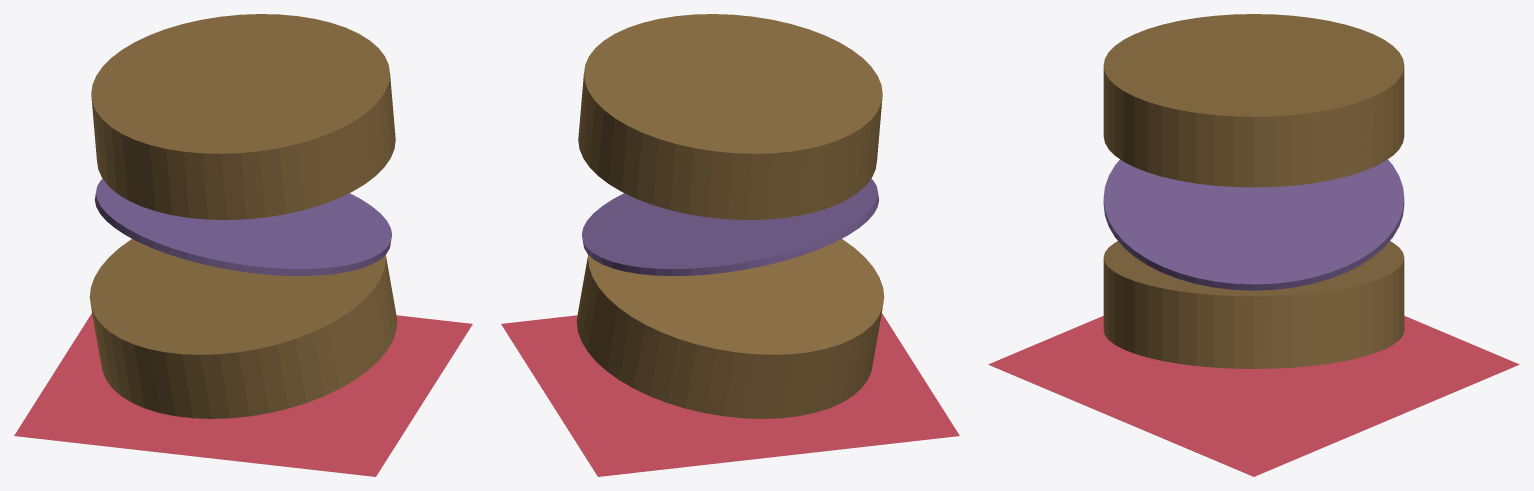
The model's file is CUC.glb.
3 views of the same model, side by side, from view 1: azimuth 30°, elevation 25°; view 2: azimuth 150°, elevation 25°; view 3: azimuth 270°, elevation 25° (orthographic).
Parts seen in each view (by area): view 1: Mesh_Mesh_head_geo.001_lambert2SG.001; view 2: Mesh_Mesh_head_geo.001_lambert2SG.001; view 3: Mesh_Mesh_head_geo.001_lambert2SG.001.
Boxes of the visible parts, bbox=[...] form: Mesh_Mesh_head_geo.001_lambert2SG.001: bbox=[14, 14, 472, 476]; Mesh_Mesh_head_geo.001_lambert2SG.001: bbox=[501, 14, 959, 476]; Mesh_Mesh_head_geo.001_lambert2SG.001: bbox=[988, 14, 1519, 476].
Size of the model in its own units: 0.0354 by 0.0227 by 0.0354.
